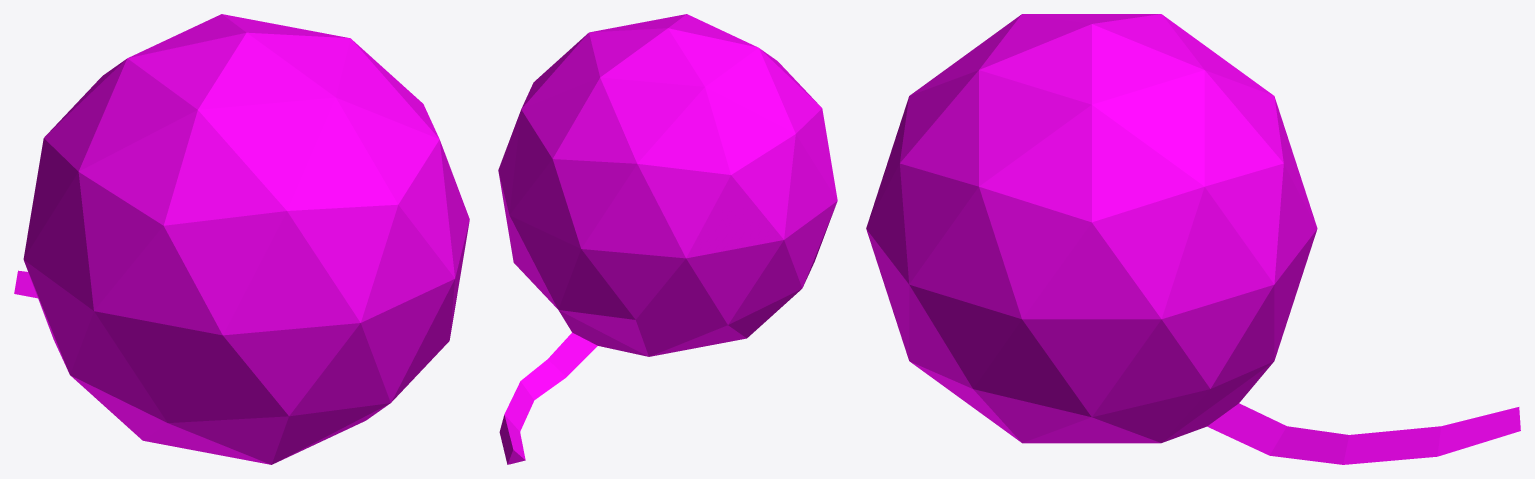
Rendered from yarn_ball.glb.
3 views of the same model, side by side, from view 1: azimuth 30°, elevation 25°; view 2: azimuth 150°, elevation 25°; view 3: azimuth 270°, elevation 25° (orthographic). The views are drawn at different scales.
Parts seen in each view (by area): view 1: Icosphere; view 2: Icosphere; view 3: Icosphere.
Boxes of the visible parts, x1,y1,x2,y2 form: Icosphere: [14, 14, 469, 464]; Icosphere: [498, 14, 837, 464]; Icosphere: [866, 14, 1520, 464].
Bounding box in the file's own units: 0.0951 × 0.1003 × 0.145.
Materials: 1 (1 with a texture image).
